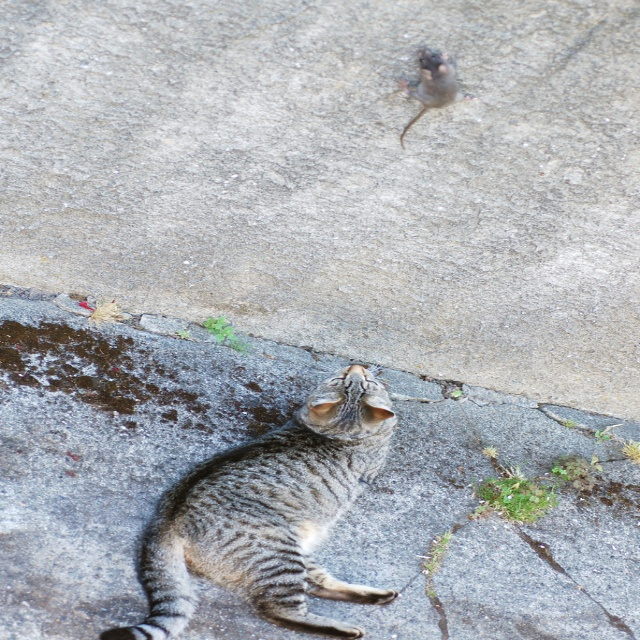Mouse: (397, 43, 470, 149)
